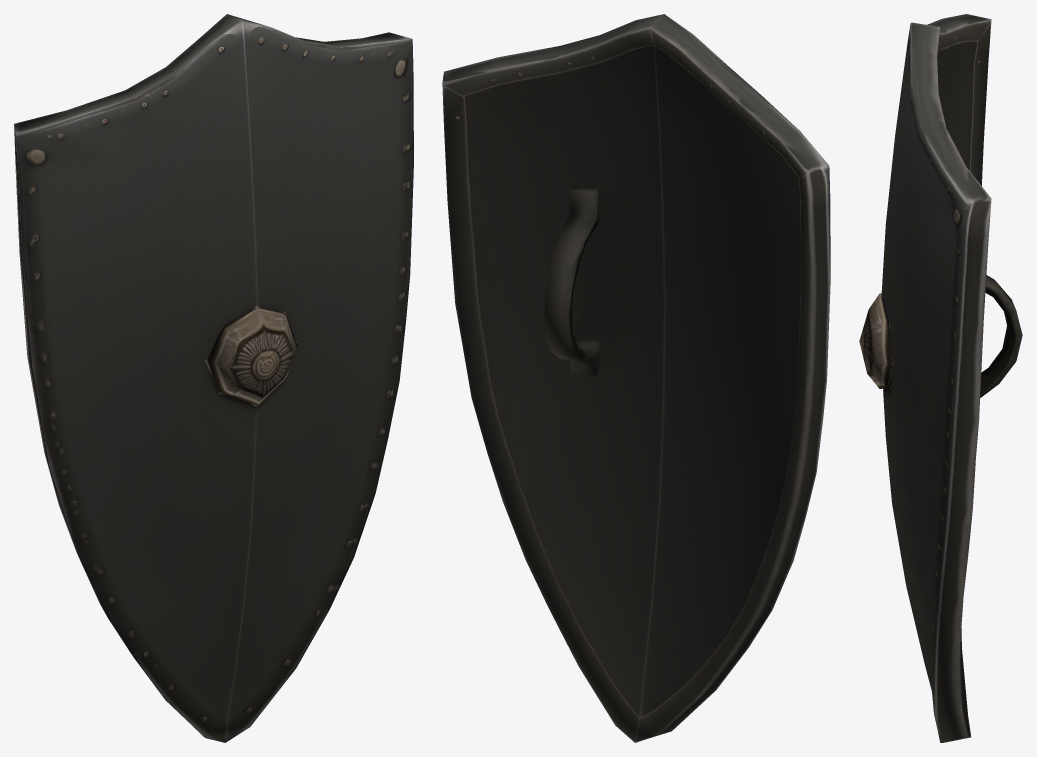
The model's file is Shield.fbx.
3 renders of one model, left to right at view 1: azimuth 30°, elevation 25°; view 2: azimuth 150°, elevation 25°; view 3: azimuth 270°, elevation 25°, orthographic. The views are drawn at different scales.
Visible parts, largest first — view 1: tripo_node_0eaf8dd2; view 2: tripo_node_0eaf8dd2; view 3: tripo_node_0eaf8dd2.
Boxes of the visible parts, bbox=[...] form: tripo_node_0eaf8dd2: bbox=[14, 14, 413, 742]; tripo_node_0eaf8dd2: bbox=[442, 14, 830, 742]; tripo_node_0eaf8dd2: bbox=[859, 14, 1022, 742].
Bounding box in the file's own units: 56.45 × 20.51 × 99.8.
Materials: 1 (1 with a texture image).
